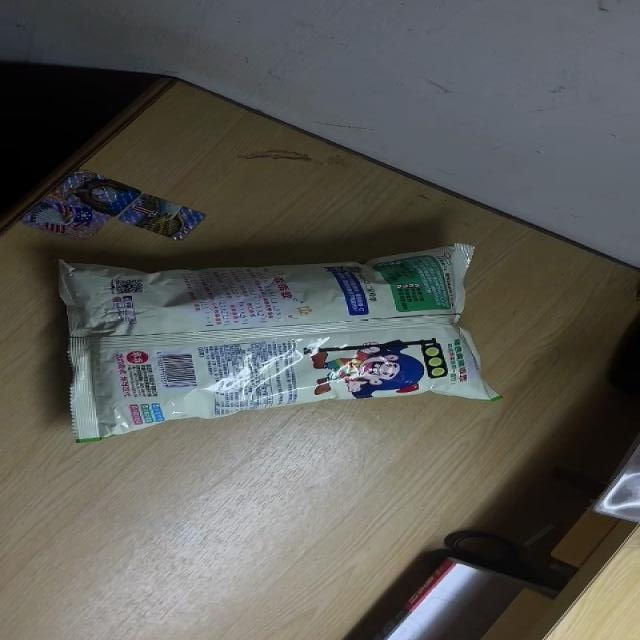Good-Luck: (54, 242, 503, 446)
